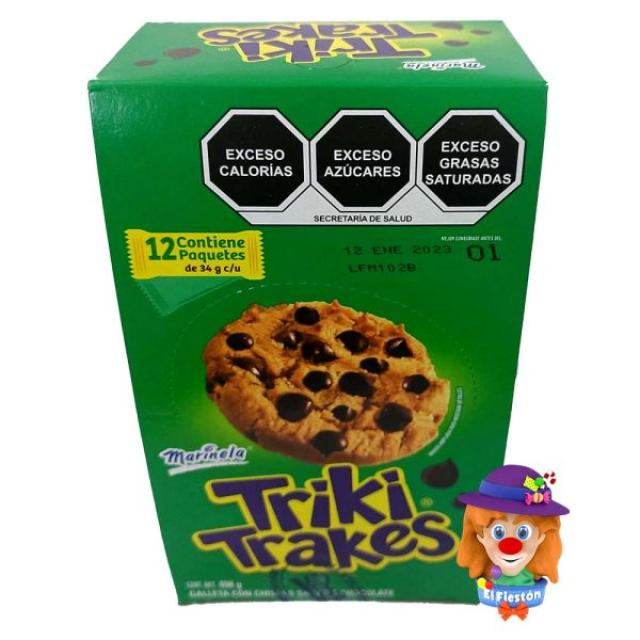Caja: (95, 13, 512, 607)
